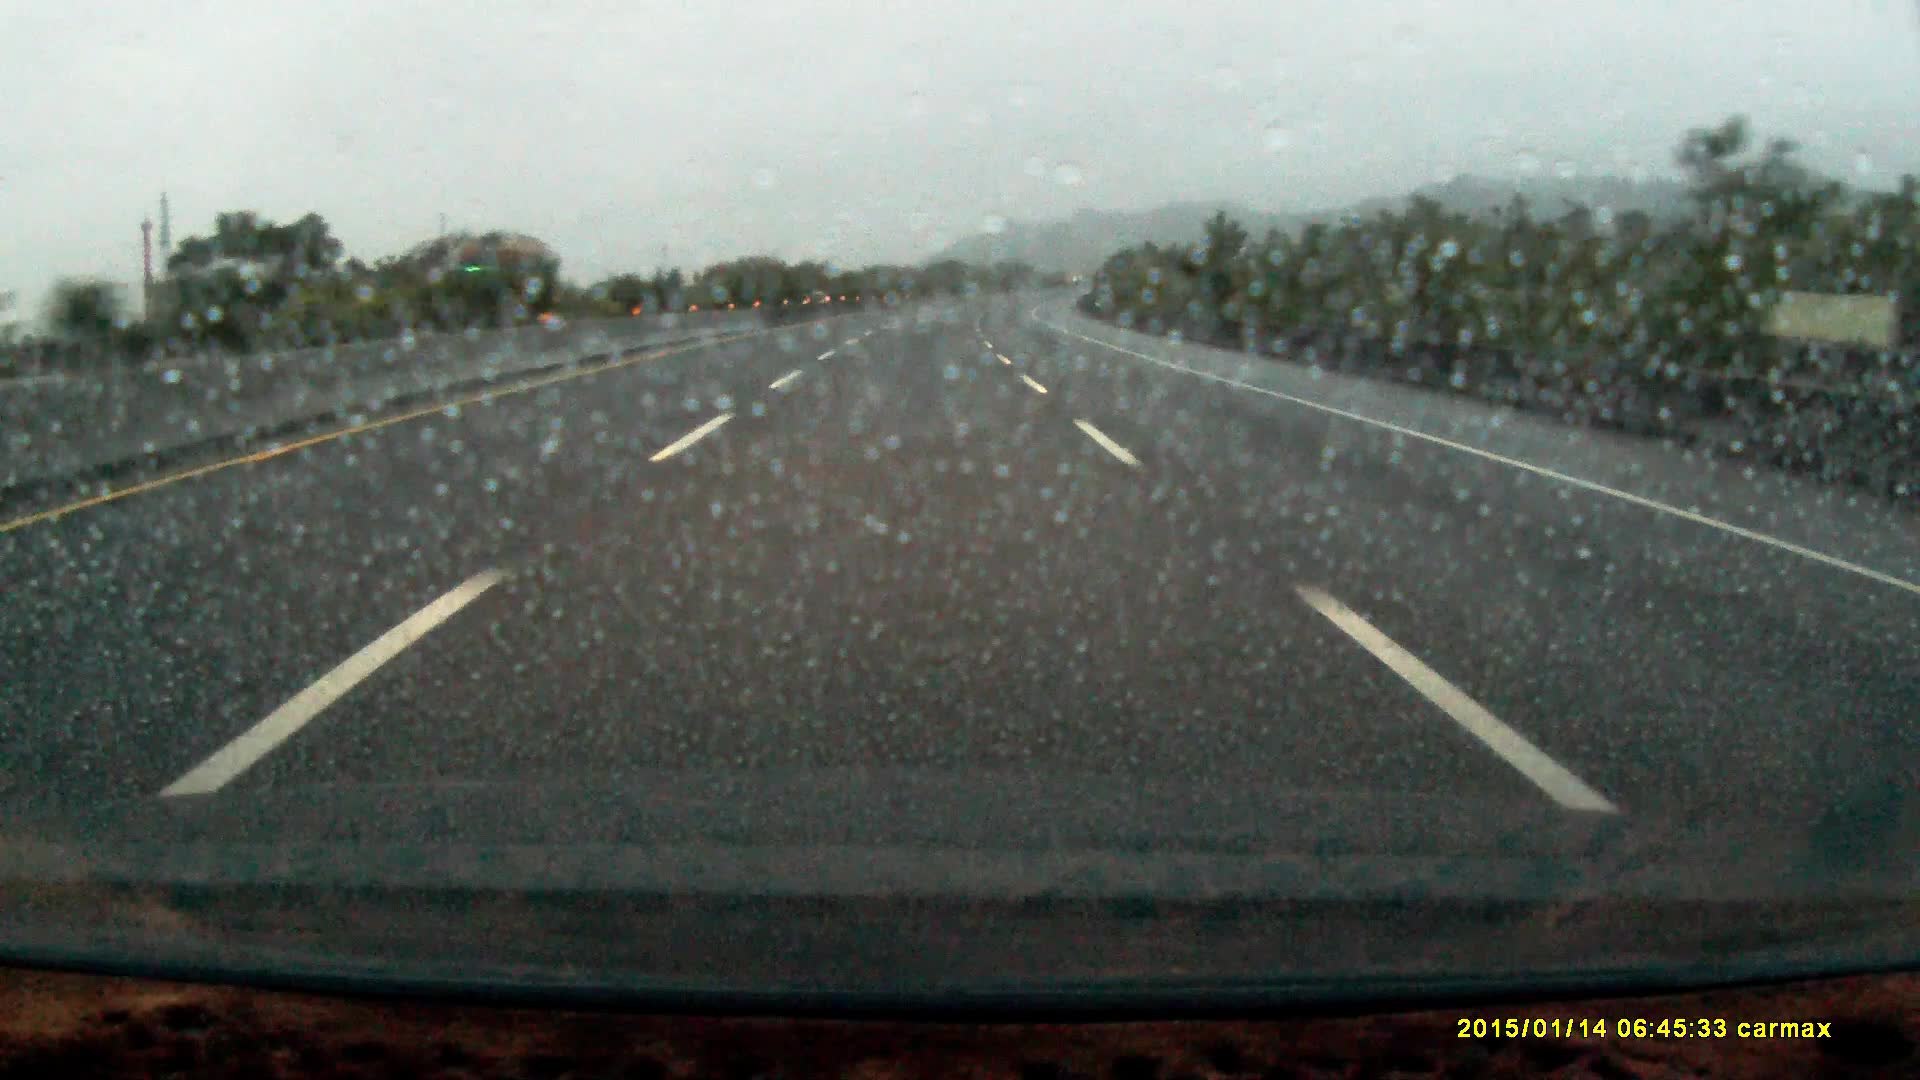vehicle: (446, 228, 563, 324)
